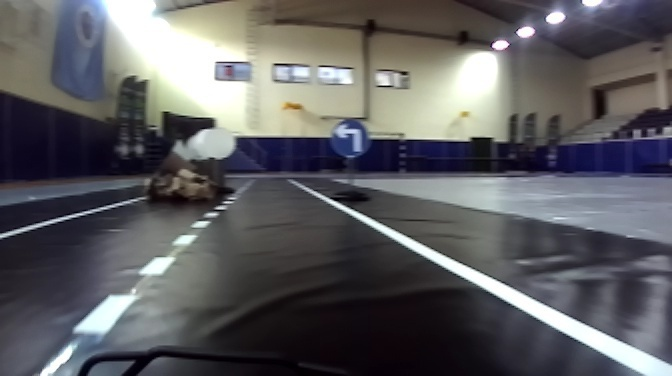sola_donus: (328, 118, 365, 156)
